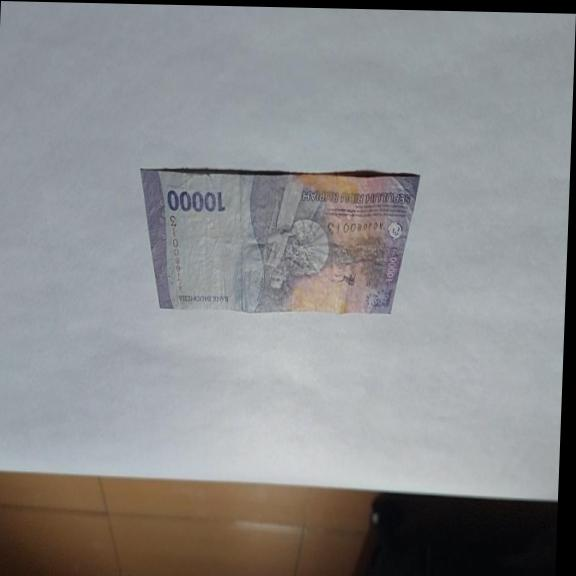Kertas: (134, 165, 421, 318), (165, 187, 226, 216)
